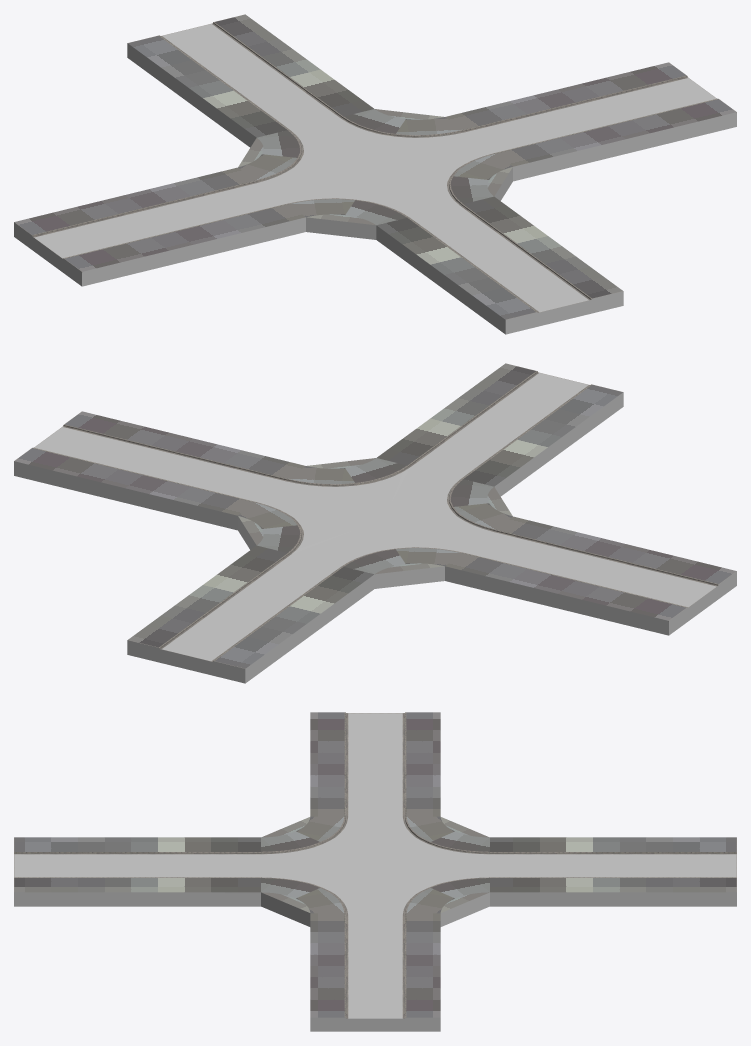
File: Road_02a_x.fbx
The picture shows the model from 3 angles, top to bottom: view 1: azimuth 30°, elevation 25°; view 2: azimuth 150°, elevation 25°; view 3: azimuth 270°, elevation 25°; orthographic projection. The views are drawn at different scales.
Visible parts, largest first — view 1: Road_02a_x; view 2: Road_02a_x; view 3: Road_02a_x.
Boxes of the visible parts, x1,y1,x2,y2 form: Road_02a_x: (14,14,736,334); Road_02a_x: (14,363,736,683); Road_02a_x: (14,712,736,1031).
Size of the model in its own units: 100 by 2.15 by 100.
